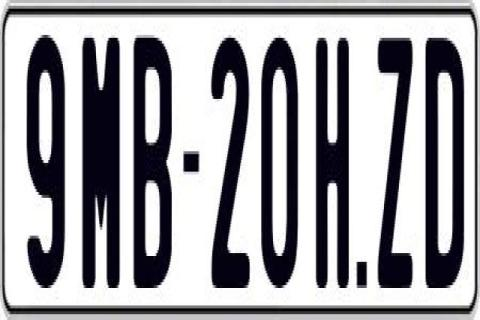0: (210, 29, 253, 294), (262, 29, 304, 288), (24, 32, 64, 288)
B: (134, 38, 178, 288)
D: (426, 35, 466, 303)
H: (316, 32, 353, 288)
M: (80, 29, 118, 288)
Z: (378, 29, 413, 285)
